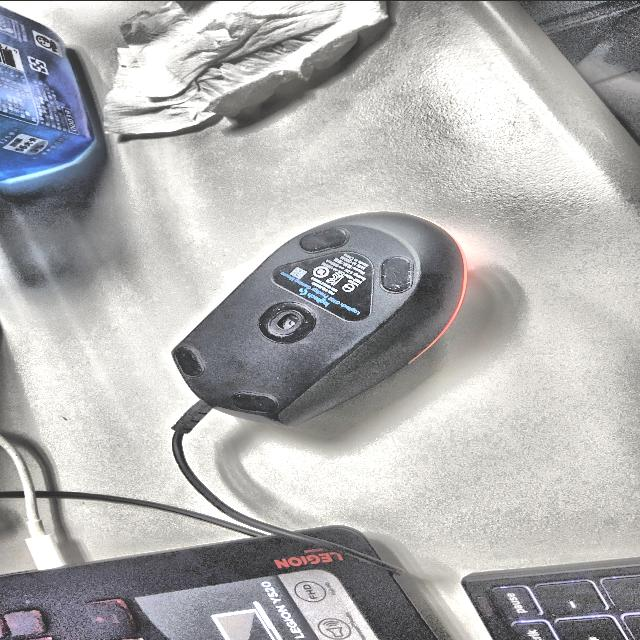Keyboard: (462, 557, 640, 640)
Laptop: (0, 535, 436, 640)
MOUSE: (173, 211, 467, 425)
